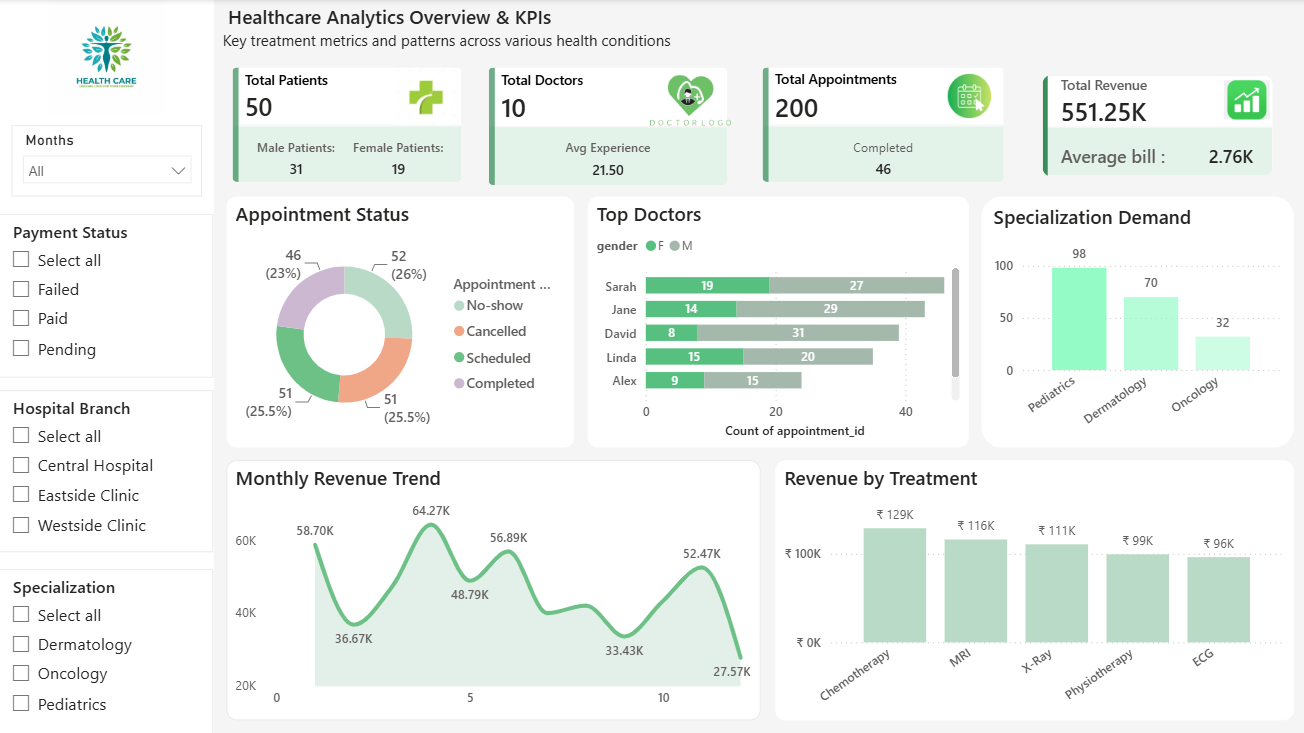

What the dashboard file says about the page in this screenshot:
{"tool":"powerbi","page":{"name":"Page 1","canvas":[1280,720],"ordinal":0},"visuals":[{"type":"shape","box":[0,0,210.3,719],"z":0},{"type":"cardVisual","fields":{"Data":["Count(healthcare_project fact_healthcare.appointment_id)"]},"box":[730,50.1,270.2,146.7],"z":0},{"type":"textbox","box":[214,0,714.1,67.3],"z":1000},{"type":"image","box":[928.1,68.5,42.8,52.6],"z":1000},{"type":"slicer","fields":{"Values":["healthcare_project dim_date.month_name"]},"box":[11.7,123.3,186.6,70],"z":2000},{"type":"slicer","fields":{"Values":["healthcare_project dim_doctor.hospital_branch"]},"box":[0,383.1,209.9,158.3],"z":3000},{"type":"slicer","fields":{"Values":["healthcare_project dim_doctor.specialization"]},"box":[0,558,209.9,161.6],"z":4000},{"type":"slicer","fields":{"Values":["healthcare_project fact_healthcare.payment_status"]},"box":[0,209.9,209.9,159.9],"z":5000},{"type":"lineChart","title":"Monthly Revenue Trend","fields":{"Category":["healthcare_project dim_date.month","healthcare_project dim_date.quarter","healthcare_project dim_date.year"],"Y":["Sum(healthcare_project fact_healthcare.bill_amount)"]},"box":[222.6,451.2,522.1,254.3],"z":6000},{"type":"clusteredColumnChart","title":"Revenue by Treatment","fields":{"Category":["healthcare_project dim_treatment.treatment_type"],"Y":["Sum(healthcare_project fact_healthcare.bill_amount)"]},"box":[759.4,451.2,507.5,254.3],"z":7000},{"type":"donutChart","title":"Appointment Status","fields":{"Category":["healthcare_project fact_healthcare.appointment_status"],"Y":["CountNonNull(healthcare_project fact_healthcare.appointment_status)"]},"box":[222.6,193.2,339.9,245.8],"z":8000},{"type":"barChart","title":"Top Doctors ","fields":{"Category":["healthcare_project dim_doctor.first_name"],"Y":["CountNonNull(healthcare_project fact_healthcare.appointment_id)"],"Series":["healthcare_project dim_patient.gender"]},"box":[576,193.2,373,245.8],"z":9000},{"type":"clusteredColumnChart","title":"Specialization Demand","fields":{"Category":["healthcare_project dim_doctor.specialization"],"Y":["CountNonNull(healthcare_project fact_healthcare.appointment_id)"]},"box":[961.1,193.2,305.7,245.8],"z":10000},{"type":"image","box":[0,0,210.3,112.5],"z":11000},{"type":"cardVisual","fields":{"Data":["Count(healthcare_project dim_patient.patient_id)"]},"box":[211.6,50.1,258,146.7],"z":11000,"group":"g1"},{"type":"group","id":"g1","title":"Group 1","box":[211.6,50.1,258,146.7],"z":12000},{"type":"cardVisual","fields":{"Data":["Sum(healthcare_project fact_healthcare.bill_amount)"]},"box":[1013.7,67.3,240.9,113.7],"z":12000,"group":"g2"},{"type":"cardVisual","fields":{"Data":["Count(healthcare_project dim_doctor.doctor_id)"]},"box":[462.2,50.1,267.8,149.2],"z":13000},{"type":"image","box":[1197.8,79.4,44.5,38.6],"z":14002,"group":"g2"},{"type":"image","box":[609,57.5,135.3,83.1],"z":14004},{"type":"image","box":[373.3,67,89.5,56.3],"z":14005,"group":"g1"},{"type":"group","id":"g2","title":"Group 4","box":[1013.7,67.3,240.9,113.7],"z":15000}]}

Visuals, with their boxes in screenshot pixels (x1, y1, x2, y2), scaled from the page's 1280x720 canvas onto the 1304x733 screenshot:
shape: [left=0, top=0, right=214, bottom=732]
cardVisual - Count(healthcare_project fact_healthcare.appointment_id): [left=744, top=51, right=1019, bottom=200]
textbox: [left=218, top=0, right=946, bottom=69]
image: [left=946, top=70, right=989, bottom=123]
slicer - healthcare_project dim_date.month_name: [left=12, top=126, right=202, bottom=197]
slicer - healthcare_project dim_doctor.hospital_branch: [left=0, top=390, right=214, bottom=551]
slicer - healthcare_project dim_doctor.specialization: [left=0, top=568, right=214, bottom=732]
slicer - healthcare_project fact_healthcare.payment_status: [left=0, top=214, right=214, bottom=376]
"Monthly Revenue Trend" lineChart: [left=227, top=459, right=759, bottom=718]
"Revenue by Treatment" clusteredColumnChart: [left=774, top=459, right=1291, bottom=718]
"Appointment Status" donutChart: [left=227, top=197, right=573, bottom=447]
"Top Doctors " barChart: [left=587, top=197, right=967, bottom=447]
"Specialization Demand" clusteredColumnChart: [left=979, top=197, right=1291, bottom=447]
image: [left=0, top=0, right=214, bottom=115]
cardVisual - Count(healthcare_project dim_patient.patient_id): [left=216, top=51, right=478, bottom=200]
"Group 1" group: [left=216, top=51, right=478, bottom=200]
cardVisual - Sum(healthcare_project fact_healthcare.bill_amount): [left=1033, top=69, right=1278, bottom=184]
cardVisual - Count(healthcare_project dim_doctor.doctor_id): [left=471, top=51, right=744, bottom=203]
image: [left=1220, top=81, right=1266, bottom=120]
image: [left=620, top=59, right=758, bottom=143]
image: [left=380, top=68, right=471, bottom=126]
"Group 4" group: [left=1033, top=69, right=1278, bottom=184]
